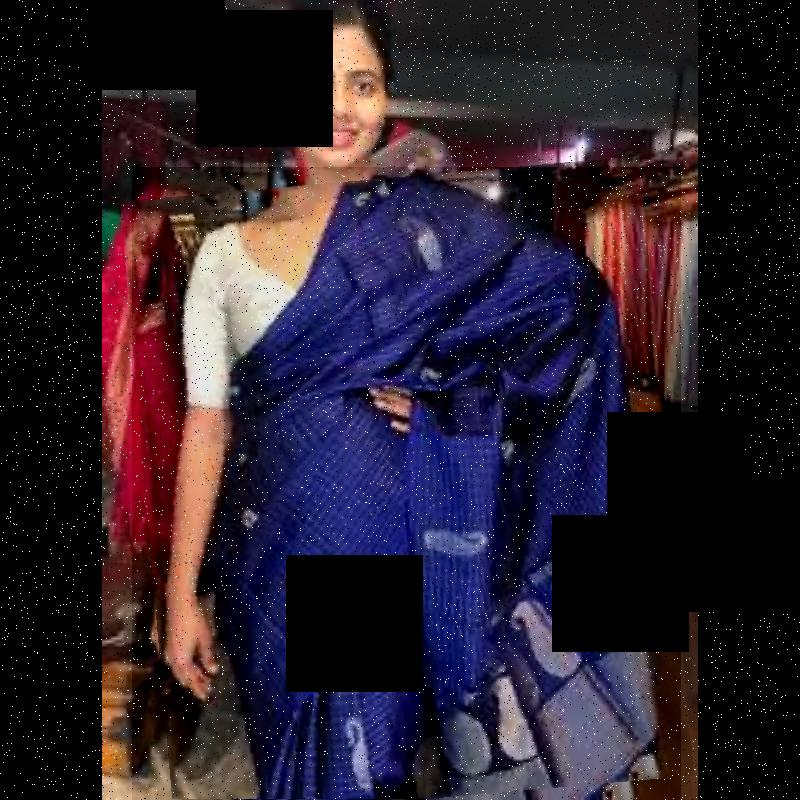Saree: (132, 167, 681, 800)
